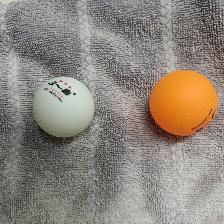WhiteBall: (32, 76, 94, 137)
YellowBall: (148, 69, 217, 136)
